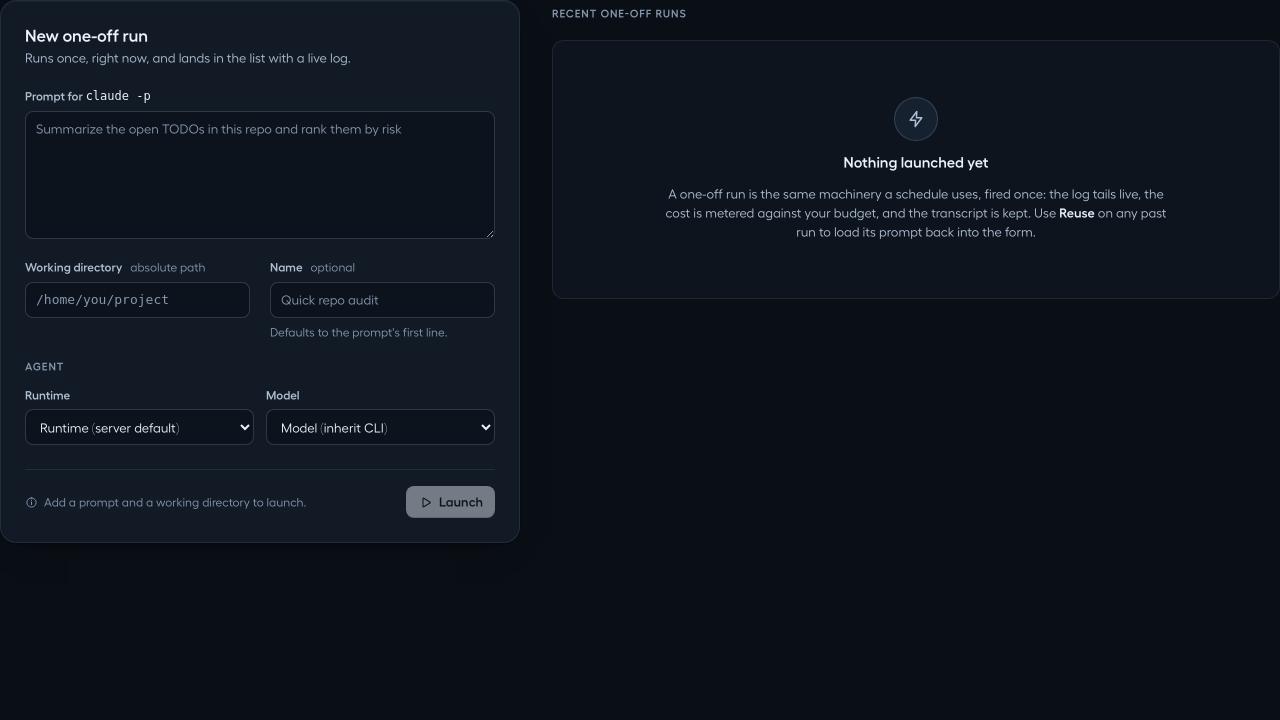
Test case: Launch › keeps Launch disabled until prompt and cwd are filled
Expected: the button "Launch" is disabled, top-left (406, 486), bottom-right (495, 518)
Type "do things" into the text box with placeholder "Summarize the open TODOs in this repo and rank them by risk".
click(260, 175); type("do things")  # box top-left (25, 111), bottom-right (495, 239)
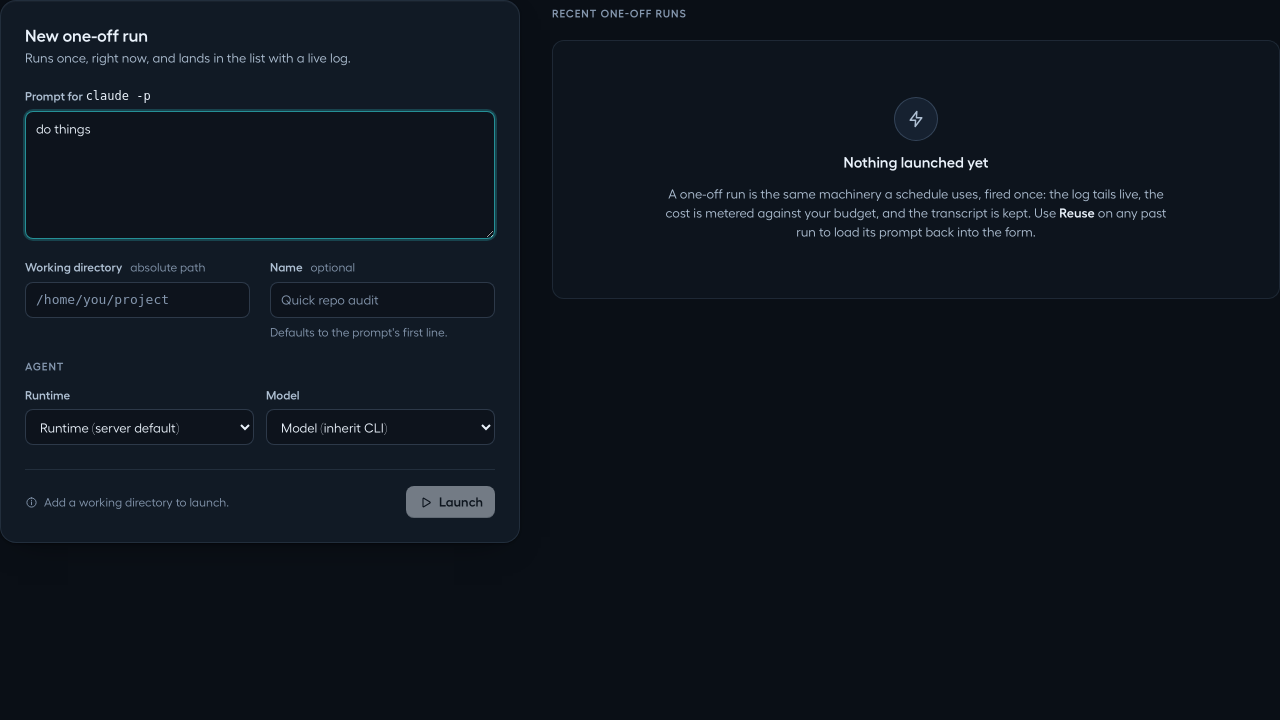
Expected: the button "Launch" is disabled, top-left (406, 486), bottom-right (495, 518)
Type "/tmp/repo" into the field with placeholder "/home/you/project".
click(138, 300); type("/tmp/repo")  # box top-left (25, 282), bottom-right (250, 318)
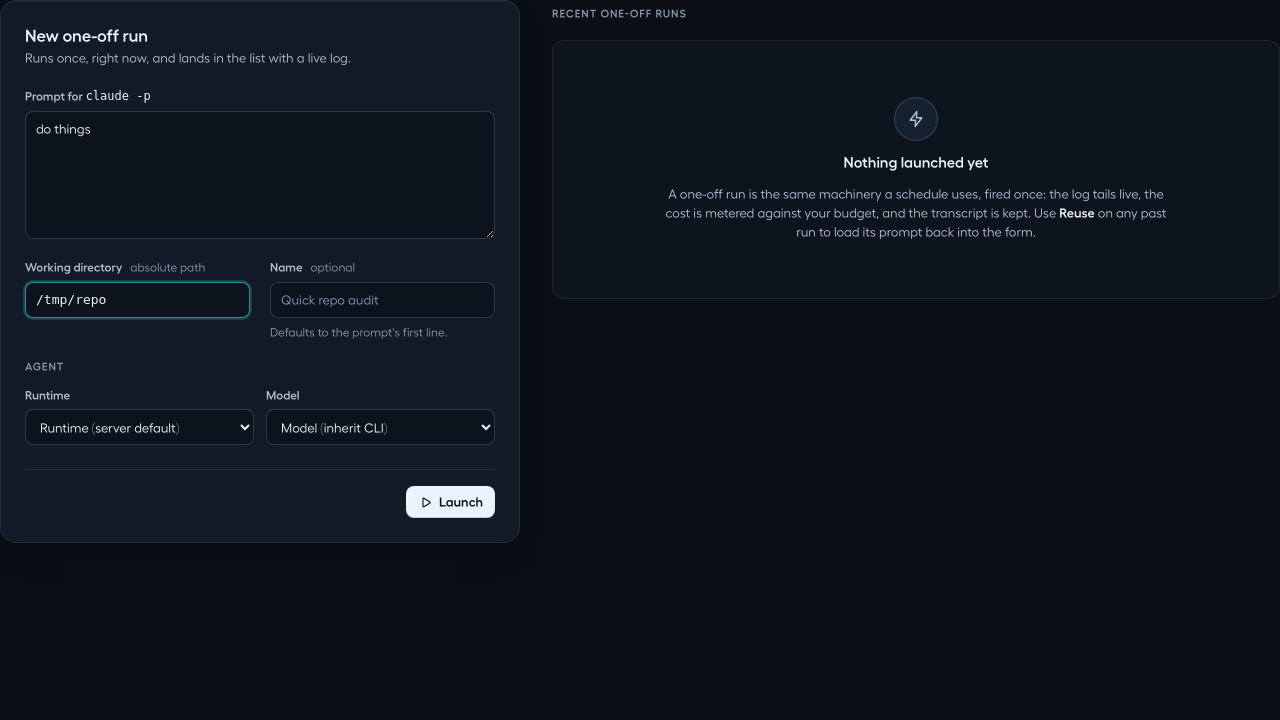
Now the button "Launch" is enabled, box top-left (406, 486), bottom-right (495, 518)
